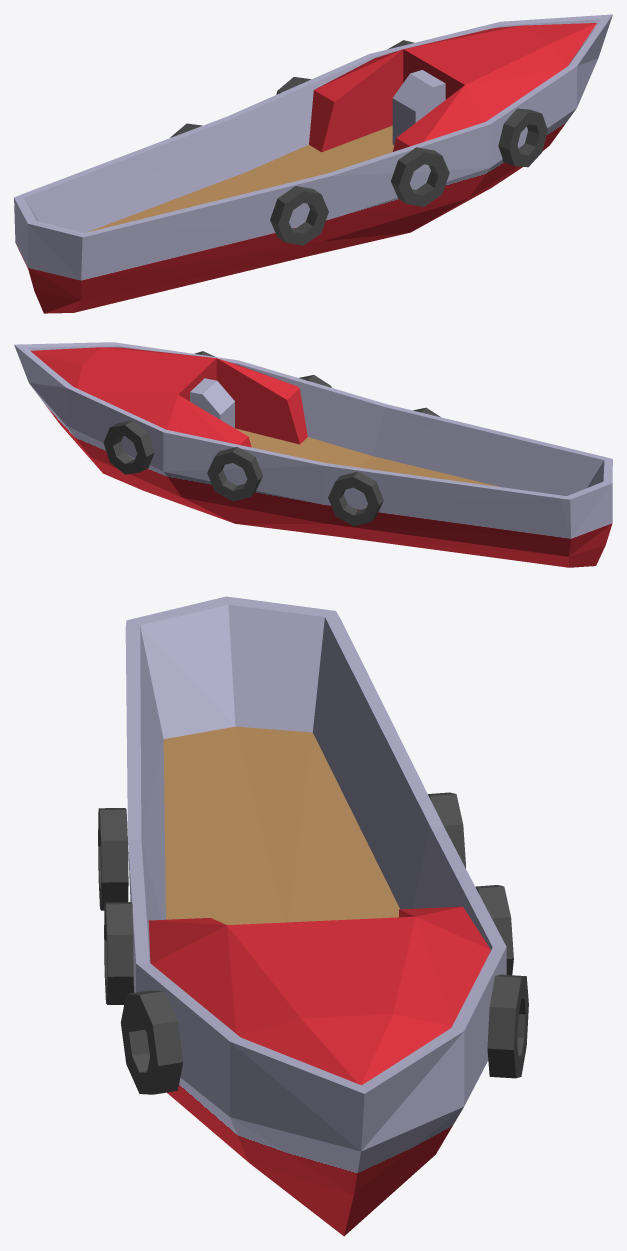
Rendered from boat.glb.
The picture shows the model from 3 angles, top to bottom: view 1: azimuth 30°, elevation 25°; view 2: azimuth 150°, elevation 25°; view 3: azimuth 270°, elevation 25°; orthographic projection. The views are drawn at different scales.
Parts seen in each view (by area): view 1: fishing_boat; view 2: fishing_boat; view 3: fishing_boat.
Boxes of the visible parts, x1,y1,x2,y2 form: fishing_boat: (14, 14, 612, 313); fishing_boat: (14, 342, 612, 567); fishing_boat: (98, 596, 528, 1236).
Bounding box in the file's own units: 5.15 × 1.01 × 1.7.
3 materials, 3 textured.
